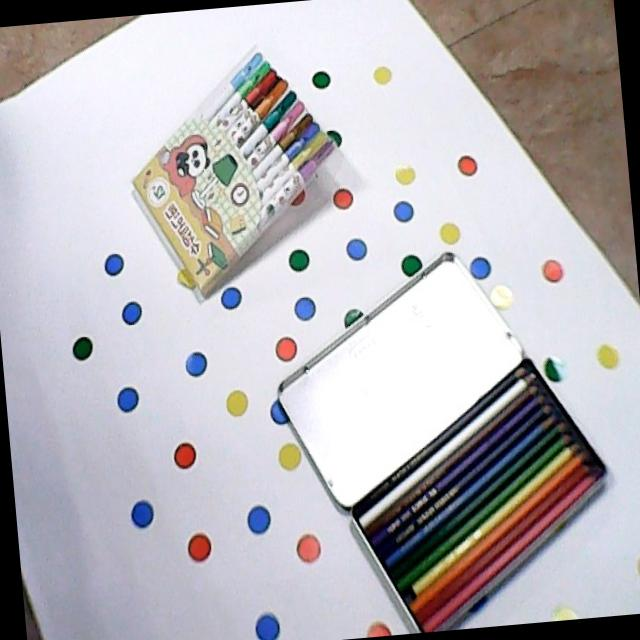color: (340, 338, 614, 632)
signpen: (120, 38, 343, 309)
